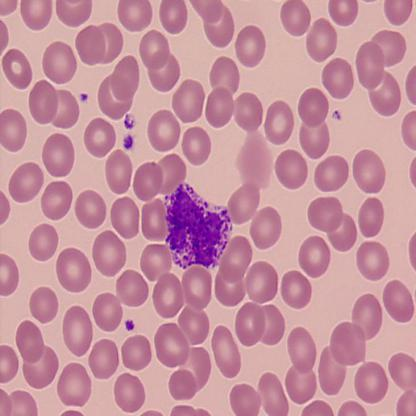Basophil: (162, 181, 234, 272)
